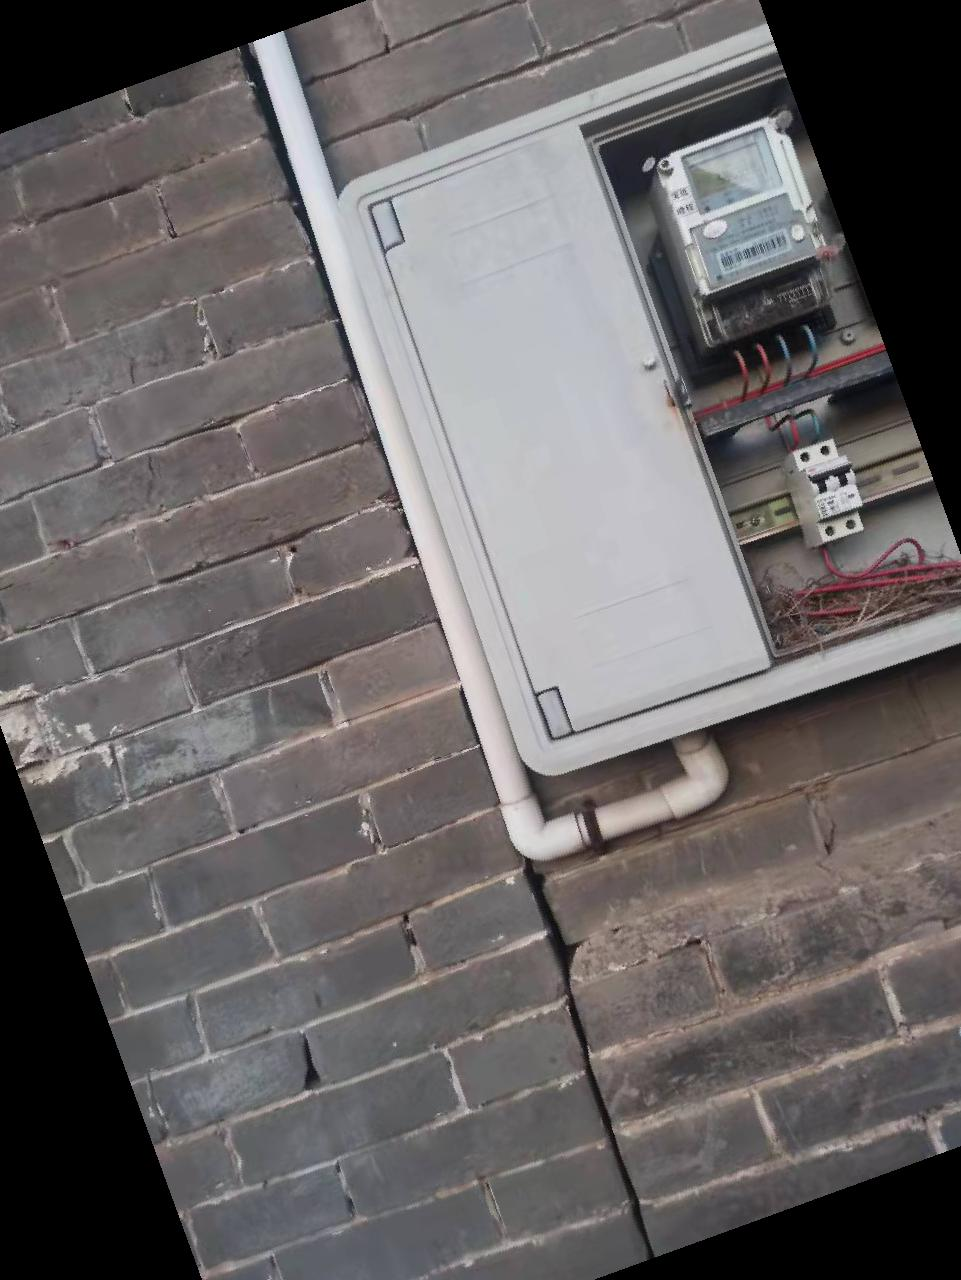digital: (653, 122, 822, 299)
